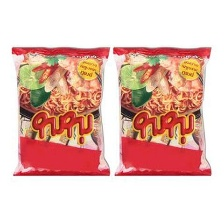snack: (3, 40, 113, 182), (108, 40, 215, 182)
